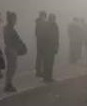person: (3, 10, 28, 93), (42, 12, 59, 86), (33, 10, 48, 80), (67, 15, 78, 66), (78, 19, 87, 63)
